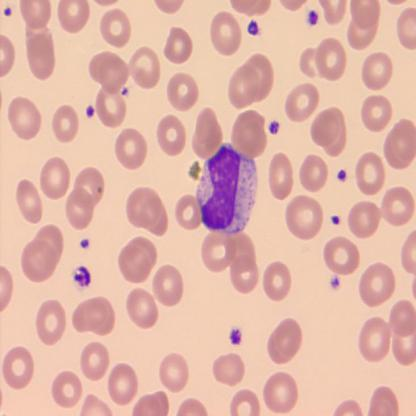Metamyelocyte: (194, 139, 260, 236)
